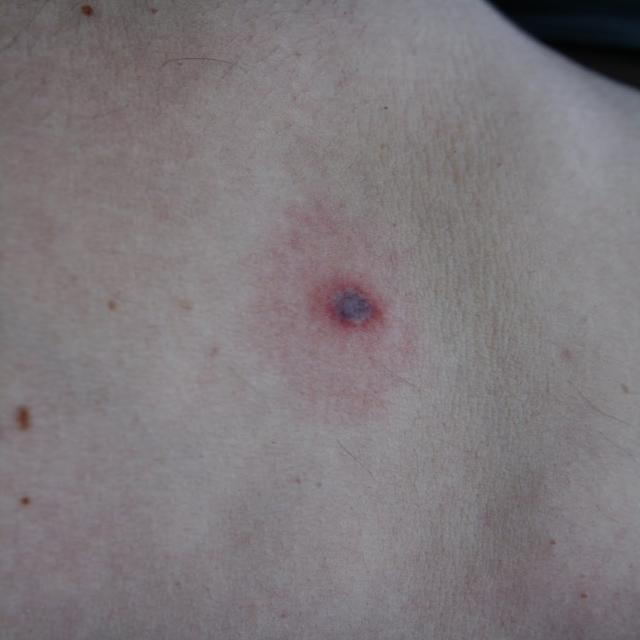kene: (303, 260, 405, 346)
